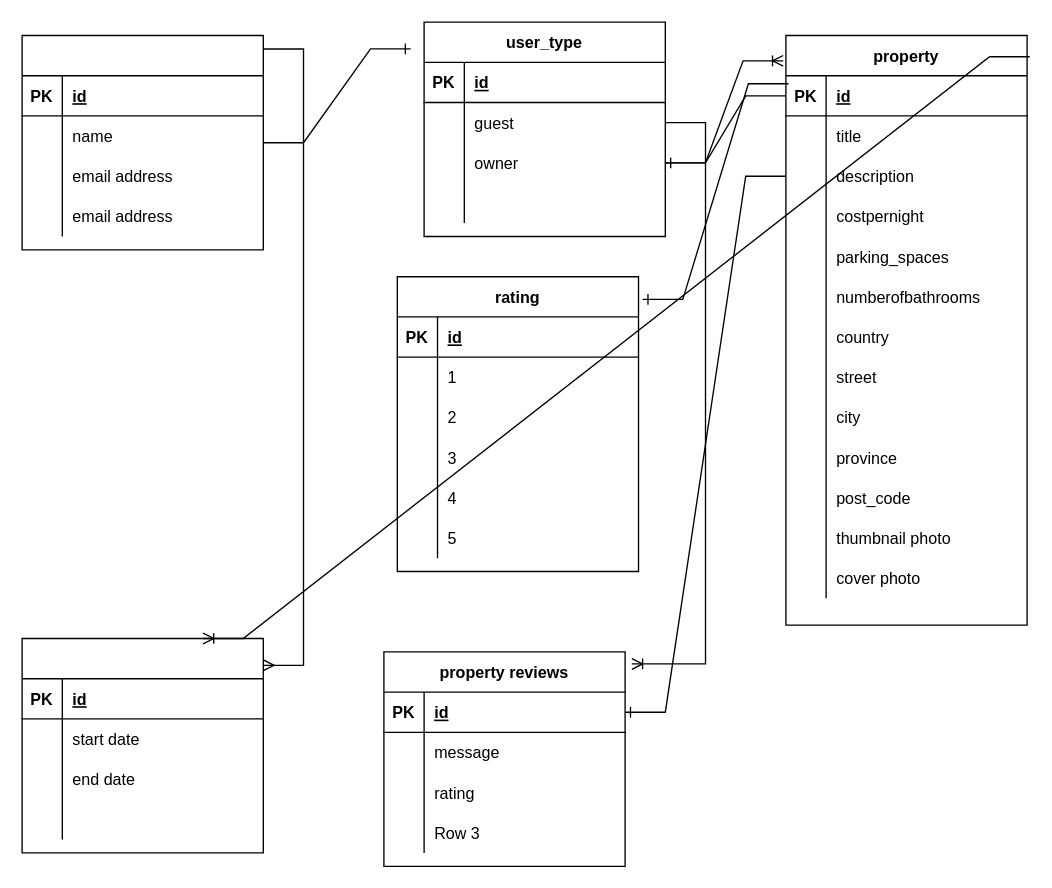
Image size: 1052x888. Some labels were removed from this diagram. Here are the shapes that lost their labels. From the top down, the box of each, then its label:
(21, 34, 263, 250): users
(21, 637, 263, 853): reservations
